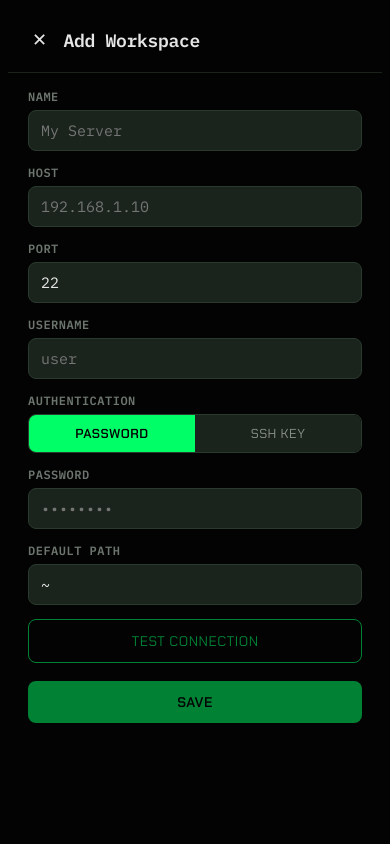
WorkspaceAddScreen host key prompt on Test Connection › leaves the failure alone where the platform verifies no host keys
Type "10.0.0.5" into the field with placeholder "192.168.1.10".
click(195, 206); type("10.0.0.5")  # box [28,186,362,227]
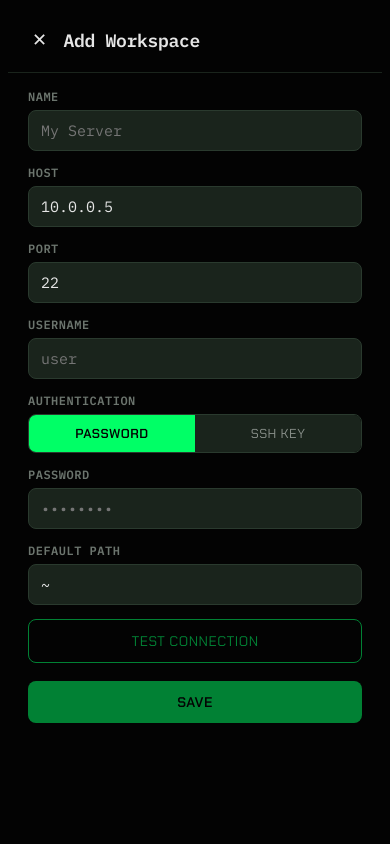
Type "root" into the field with placeholder "user".
click(195, 358); type("root")  # box [28,338,362,379]
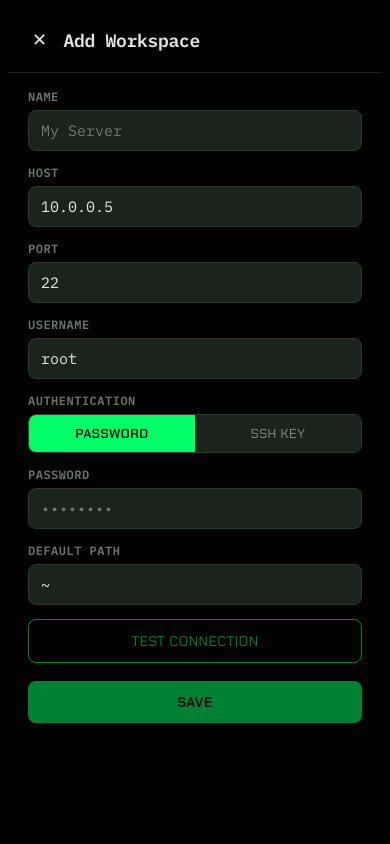
Type "hunter2" into the password field with placeholder "••••••••".
click(195, 508); type("hunter2")  # box [28,488,362,529]
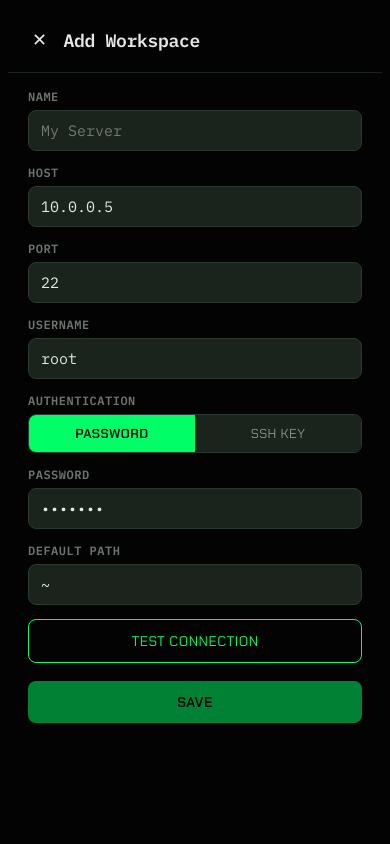
Click the button "Test Connection".
click(195, 641)  # box [28,619,362,663]
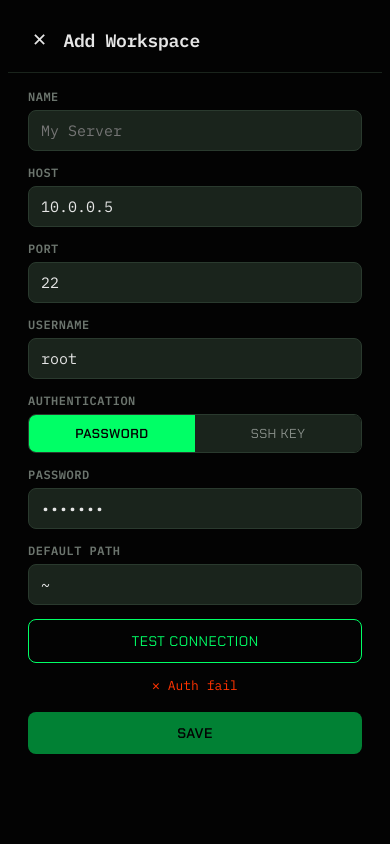
Check: the text "✕ Auth fail" is shown, box [152,677,238,694]
